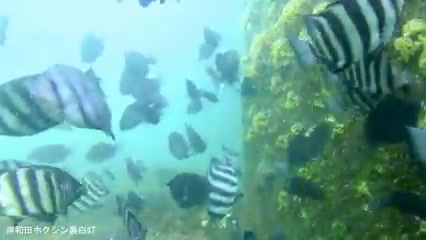ishidai: (306, 1, 393, 79), (3, 152, 92, 219), (202, 154, 248, 224), (77, 174, 131, 209)
